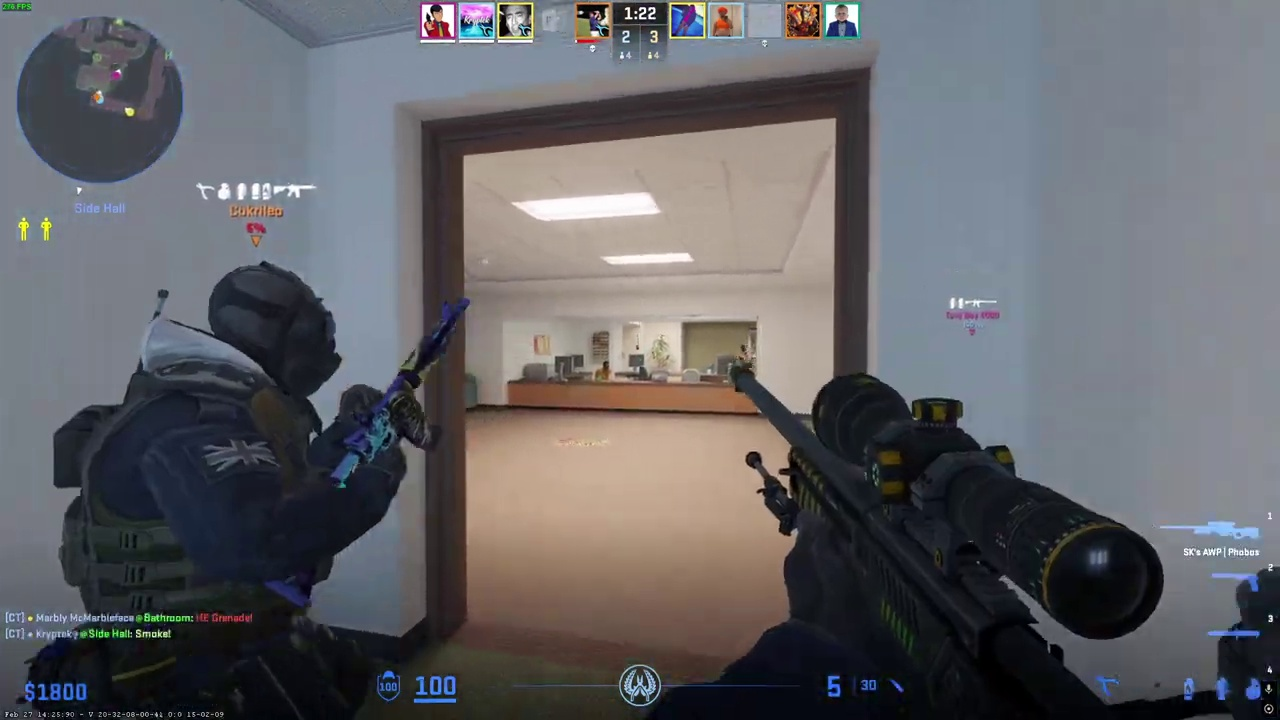CT: (56, 263, 385, 720)
